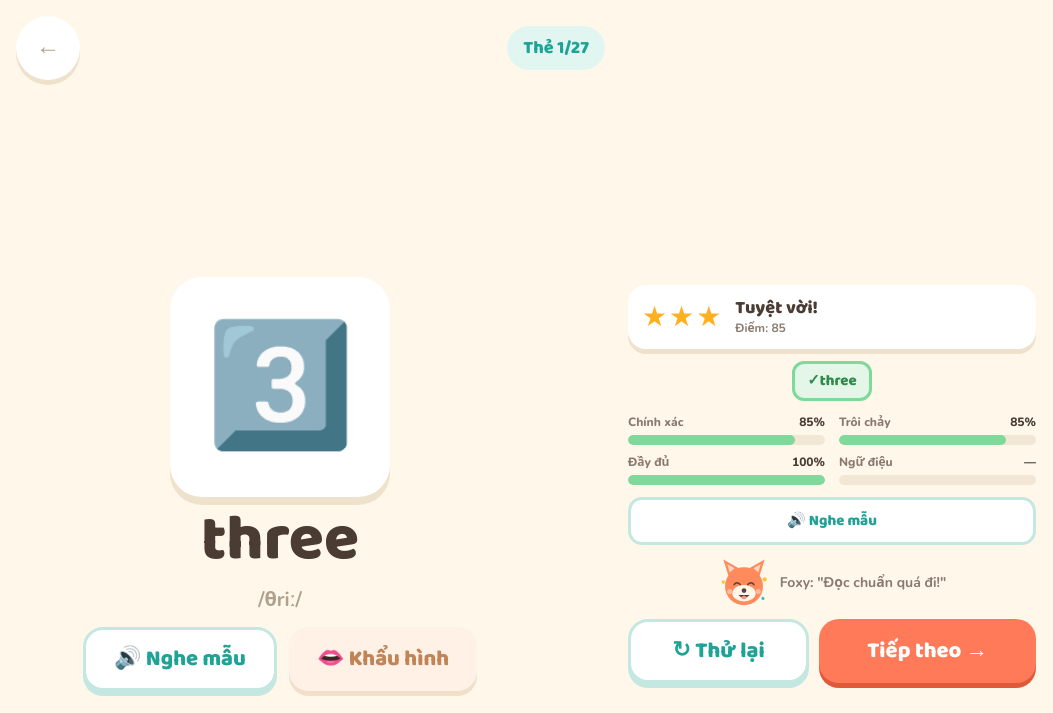
Test: Thử lại clears the result and re-enables the mic
Expected: the number of elements with test id "star-filled" is 3, [642,303,669,331]; [669,303,696,331]; [696,303,723,331]
What coordinates should you click on to do the following:
click the button "↻ Thử lại"
I would click on:
 (719, 651)
Its box is [628,619,809,683].
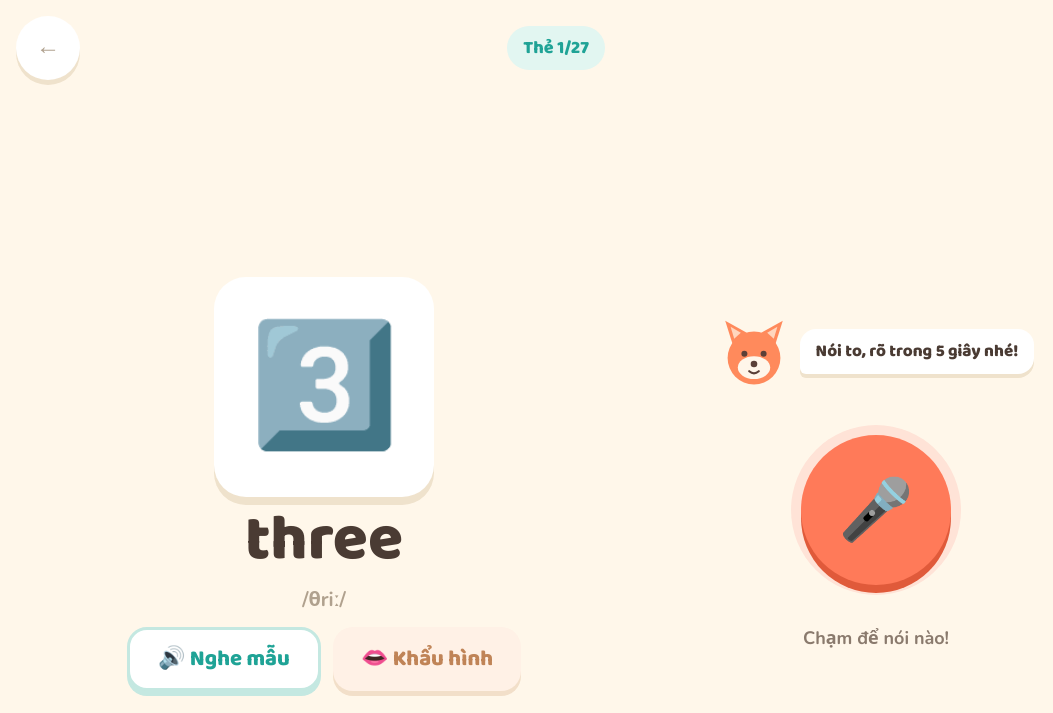
Now no elements with test id "star-filled" are shown
Now the button named "bấm để nói" is shown, box [801,434,951,584]
